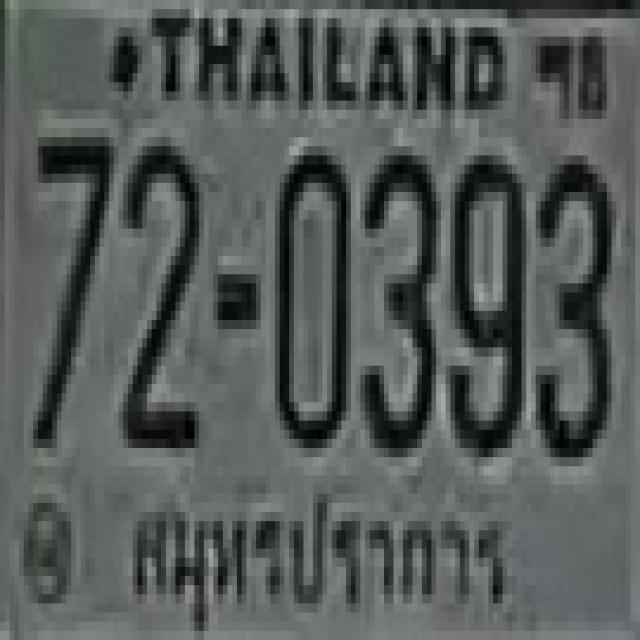0: (270, 137, 346, 439)
2: (119, 132, 199, 444)
3: (360, 146, 436, 448), (534, 151, 610, 452)
7: (33, 128, 109, 439)
9: (446, 146, 522, 448)
SPK: (115, 474, 520, 638)
